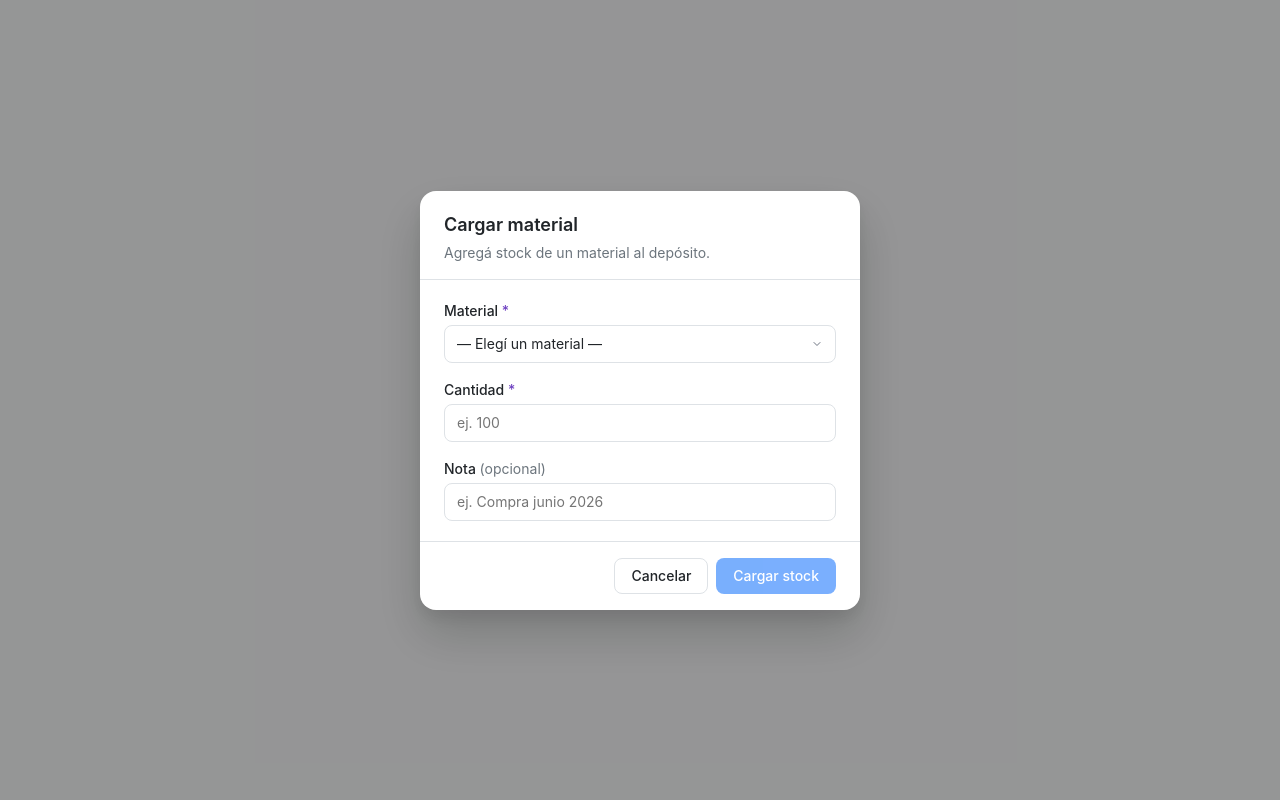
LoadDepotMaterialModal › shows MATERIAL_NOT_FOUND error with a clear message
The width and height of the screenshot is (1280, 800).
Select "Cable UTP Cat6 (m)" in the dropdown at [640, 344], box [444,324,836,362]
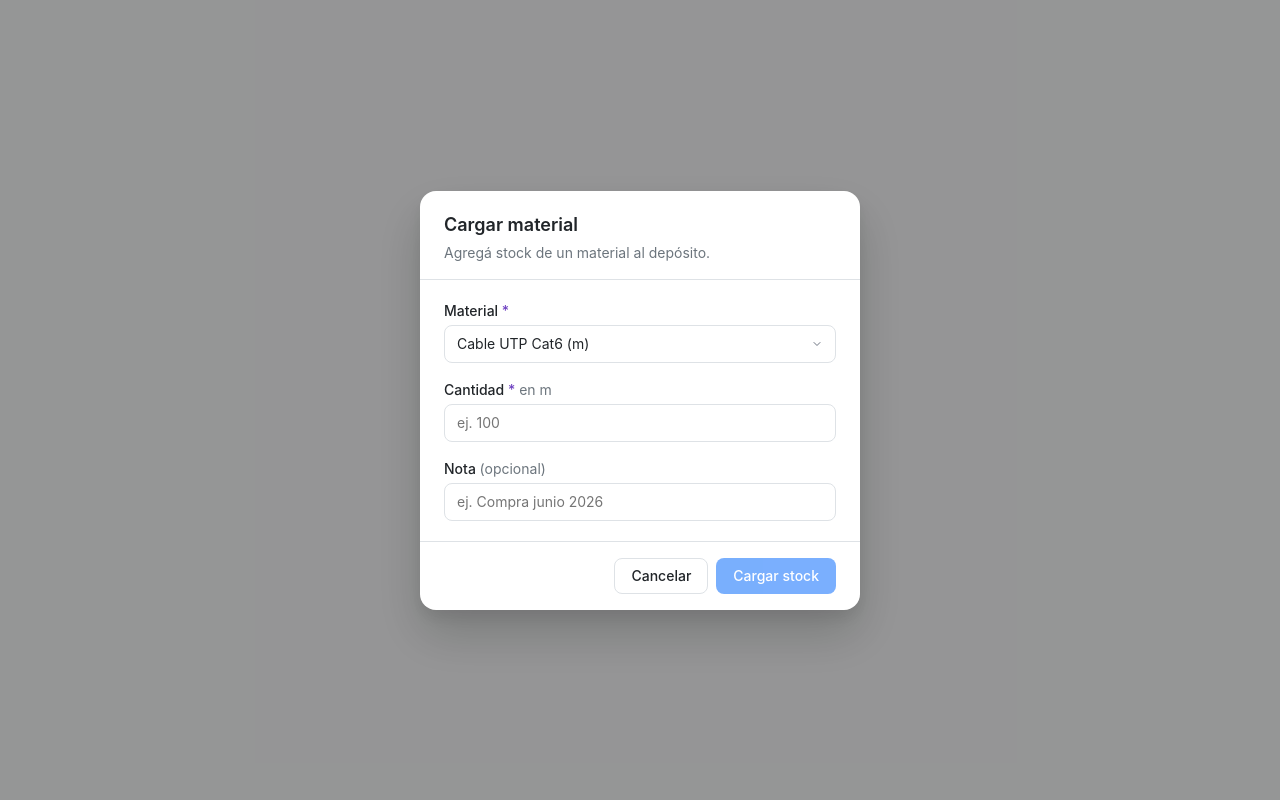
Type "5" into the number field labelled "Cantidad * en m" at [640, 422], box [444,404,836,442]
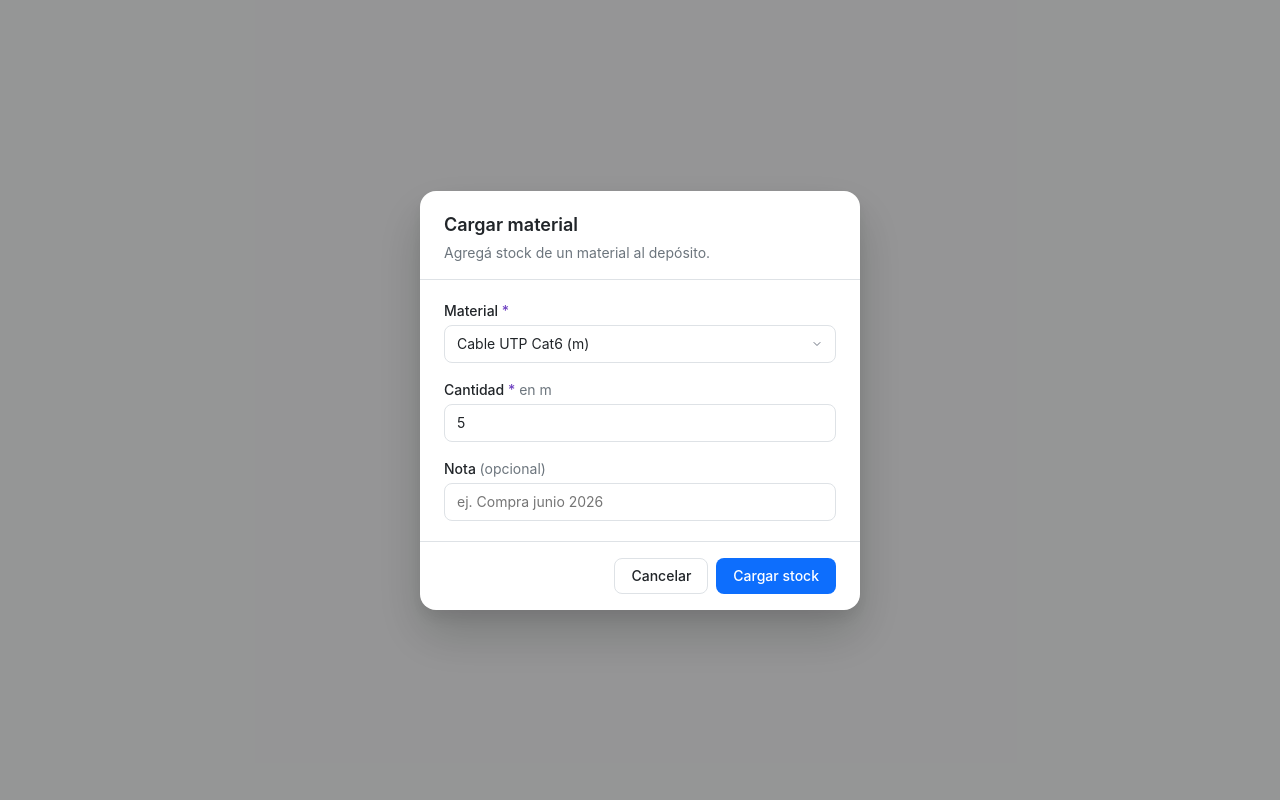
Click the button "Cargar stock" at [776, 576], box [716,558,836,594]
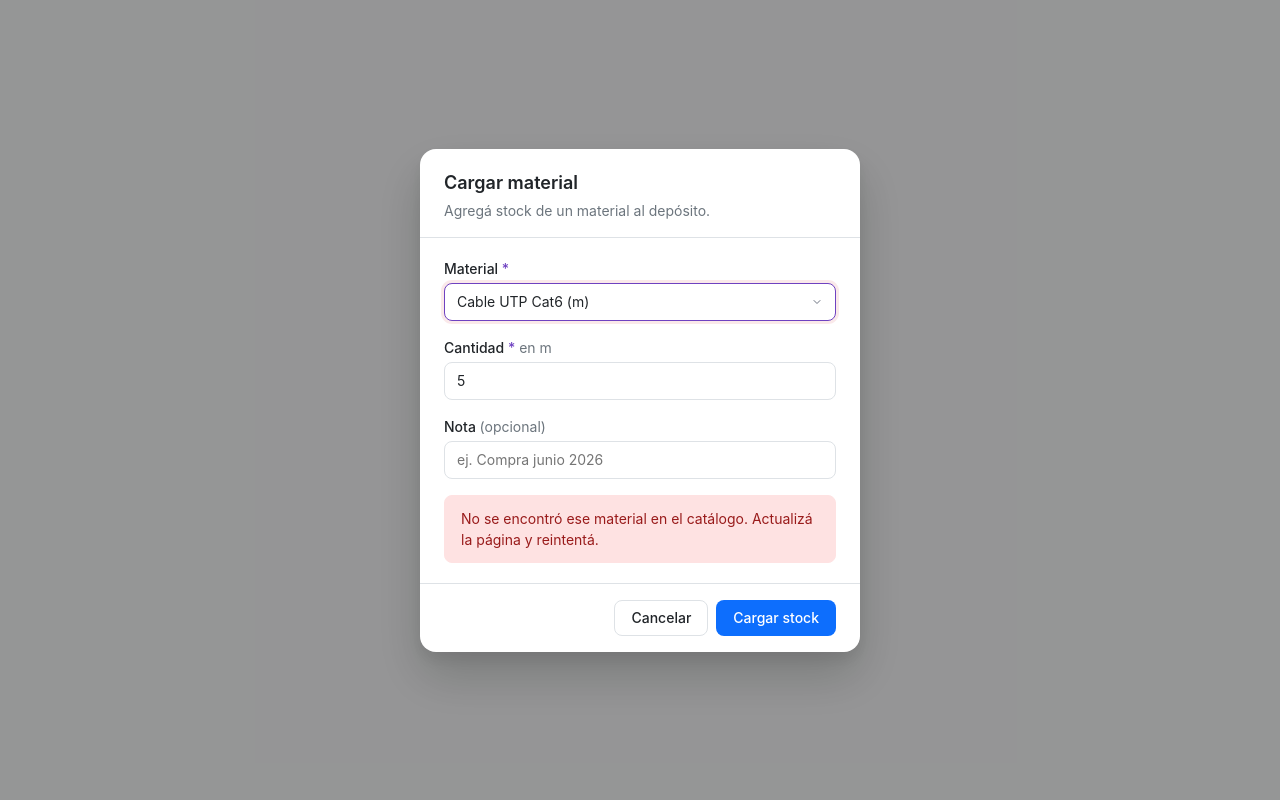
Expected: the message shows "No se encontró ese material", [461,510,813,548]
